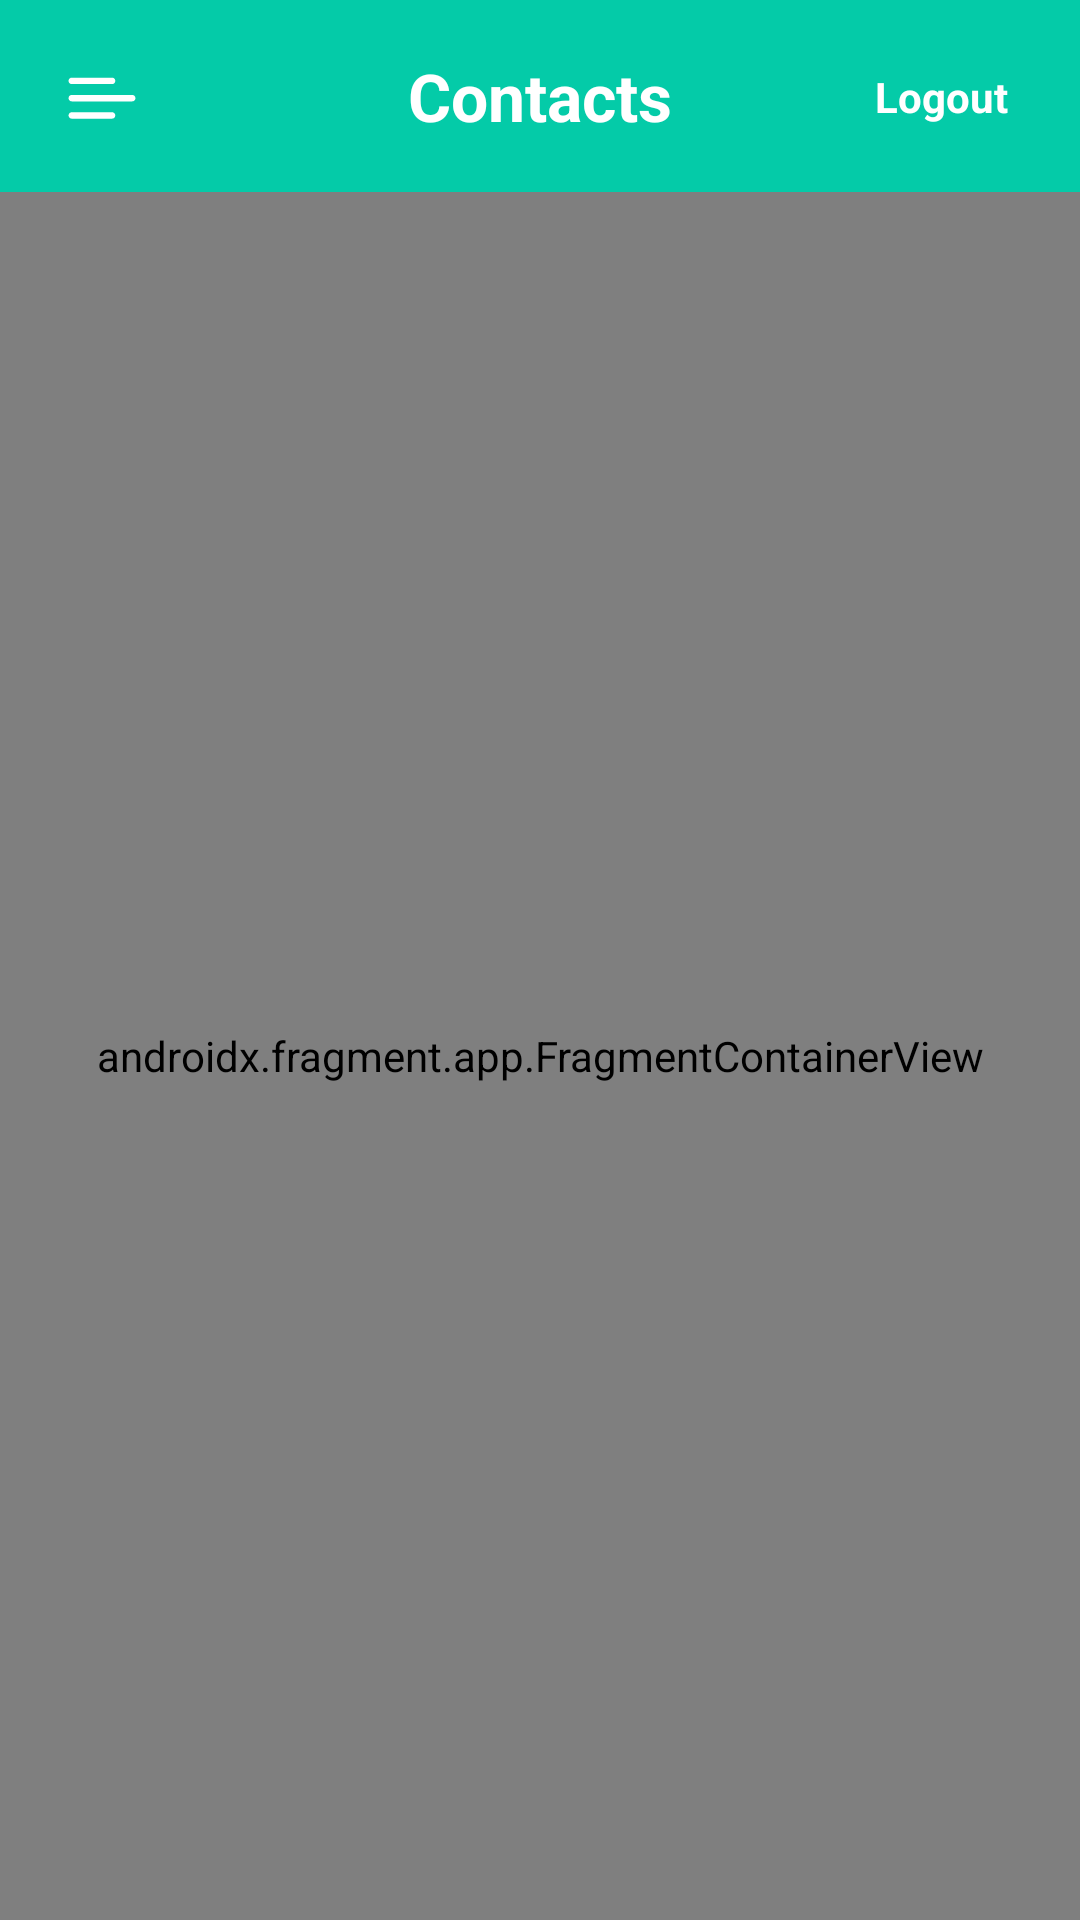

Where to tap for icons on this 1080*1920 app screen, as point (x, y):
menu: point (102, 98)
